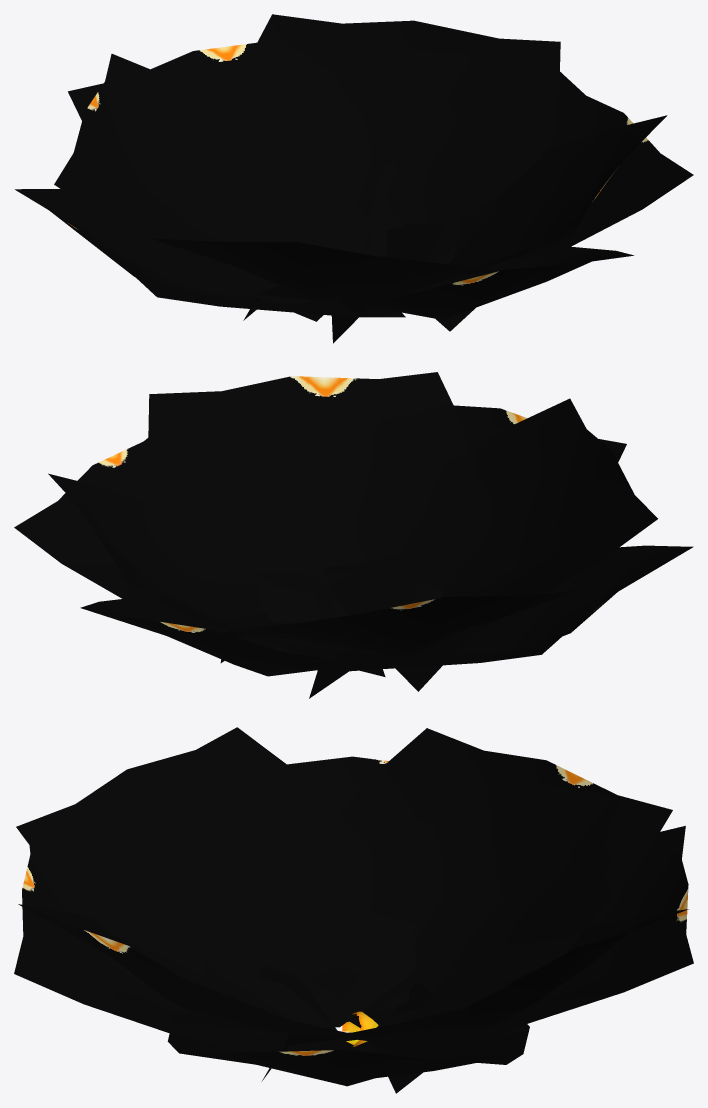
The model's file is OrangeFlower.fbx.
3 renders of one model, top to bottom at view 1: azimuth 30°, elevation 25°; view 2: azimuth 150°, elevation 25°; view 3: azimuth 270°, elevation 25°, orthographic. The views are drawn at different scales.
Parts seen in each view (by area): view 1: Sphere.003; view 2: Sphere.003; view 3: Sphere.003.
Boxes of the visible parts, x1,y1,x2,y2 form: Sphere.003: (15, 14, 693, 343); Sphere.003: (14, 372, 693, 698); Sphere.003: (14, 727, 693, 1093).
Bounding box in the file's own units: 389 × 114 × 382.
